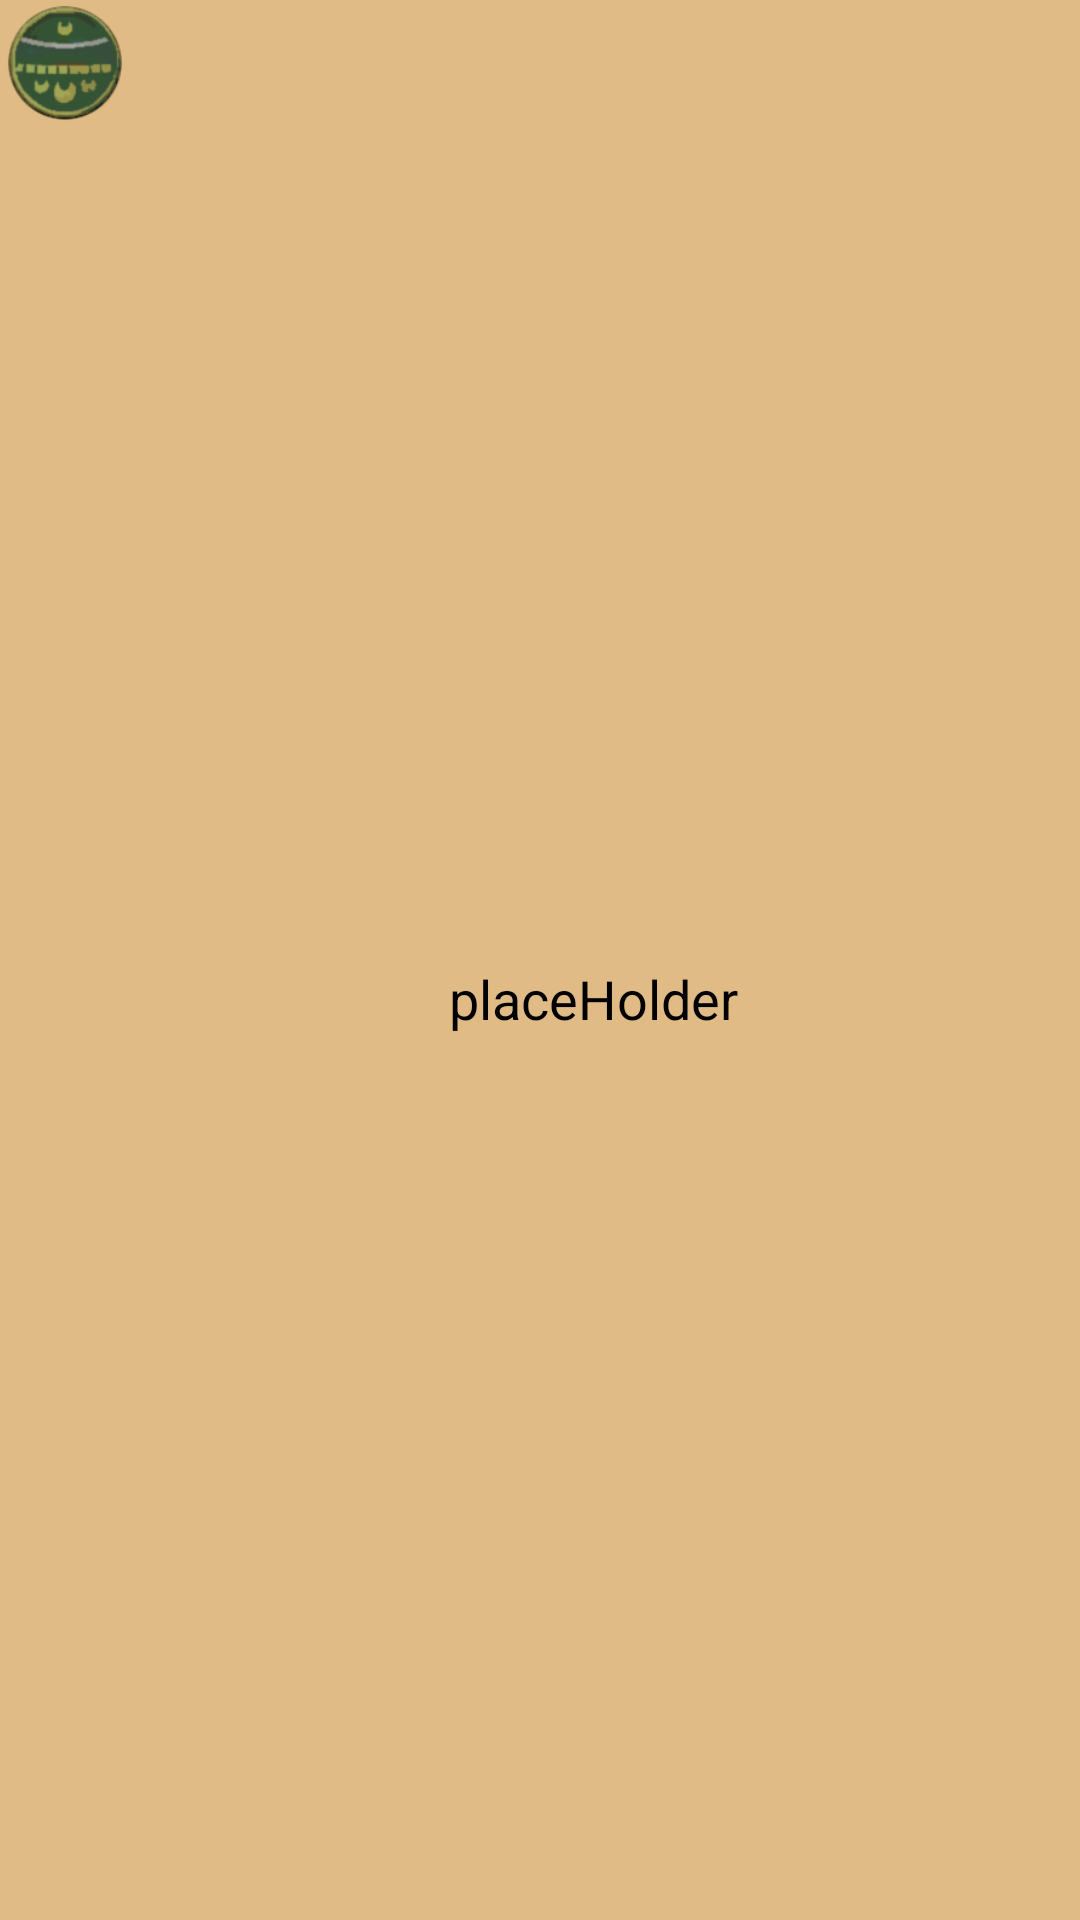

Where icons sit on this 1080*1920 app screen, as (x1, y1, x2, y2):
aaztecs: (8, 6, 122, 120)
